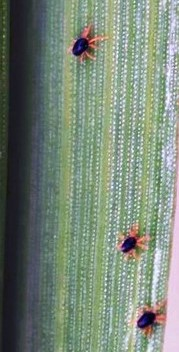Wheat Red Spider: (60, 23, 113, 65)
